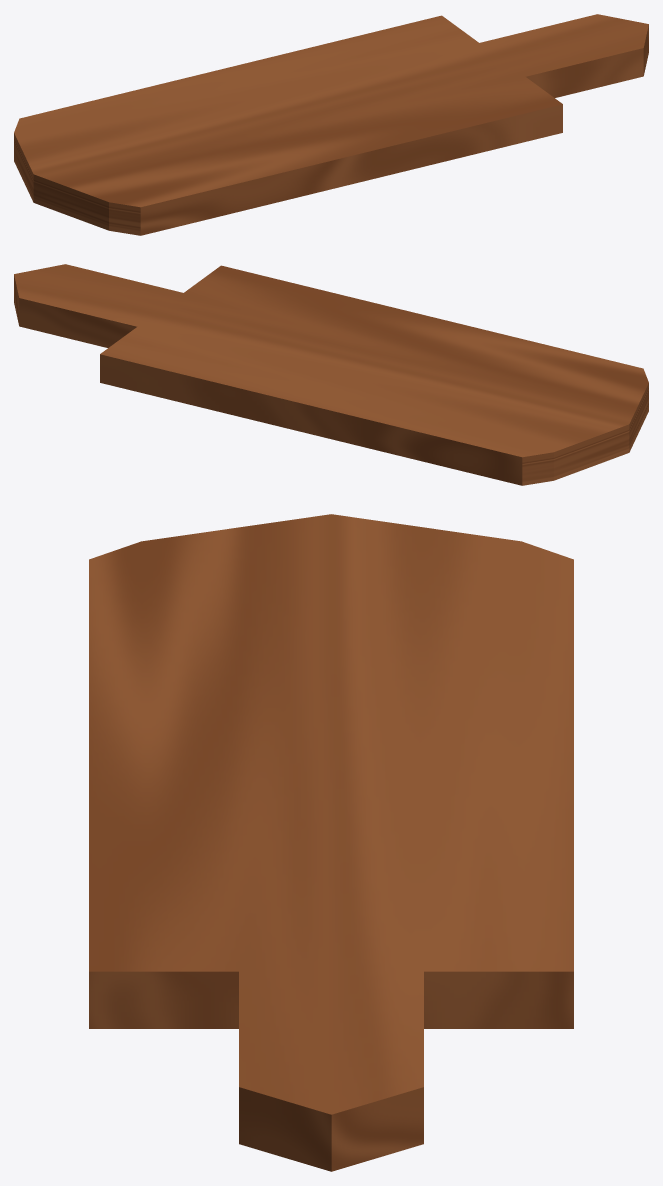
Rendered from Kürek.fbx.
3 renders of one model, top to bottom at view 1: azimuth 30°, elevation 25°; view 2: azimuth 150°, elevation 25°; view 3: azimuth 270°, elevation 25°, orthographic. The views are drawn at different scales.
Parts seen in each view (by area): view 1: Kürek; view 2: Kürek; view 3: Kürek.
Boxes of the visible parts, x1,y1,x2,y2 form: Kürek: (14, 14, 648, 235); Kürek: (14, 264, 648, 485); Kürek: (89, 514, 573, 1171).
Bounding box in the file's own units: 0.51 × 0.0226 × 0.1741.
